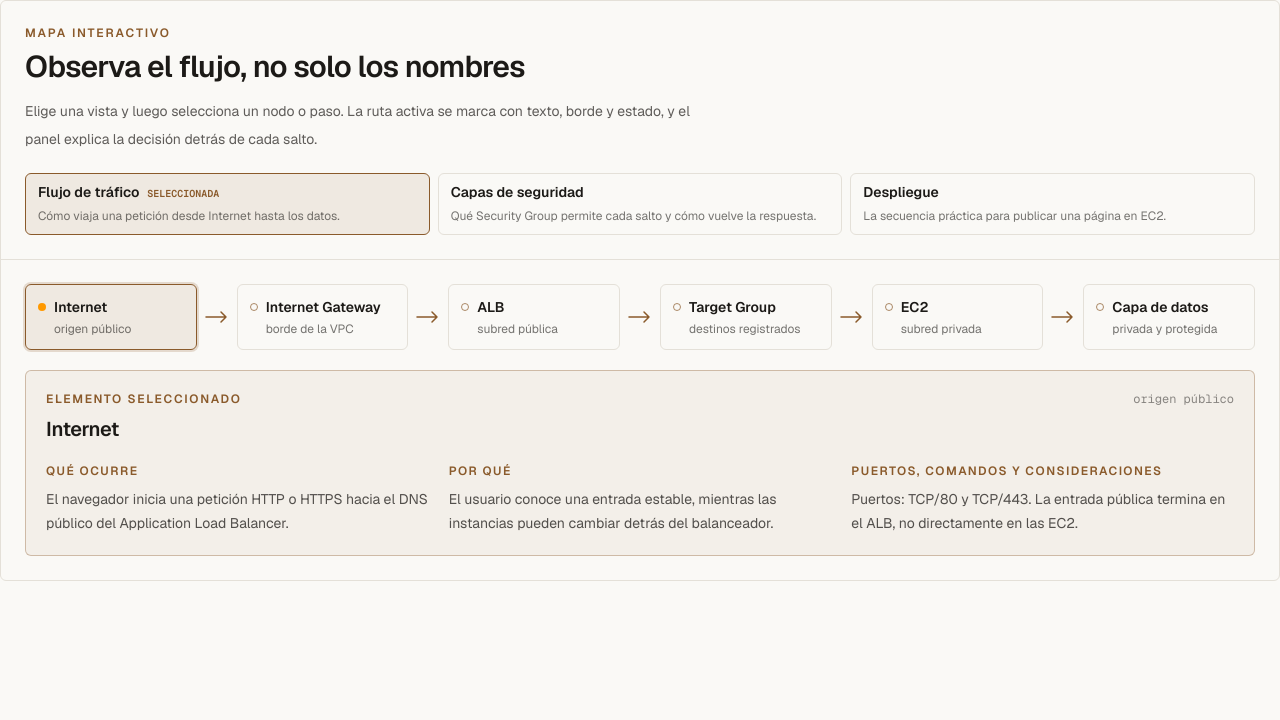
Test case: AWSArchitectureDiagrams › switches between the three diagram modes
Expected: the button with aria-label "Internet, origen público, seleccionado" is shown, [25, 284, 197, 350]
Click the tab "Capas de seguridad": (517, 192) [438, 173, 842, 235]
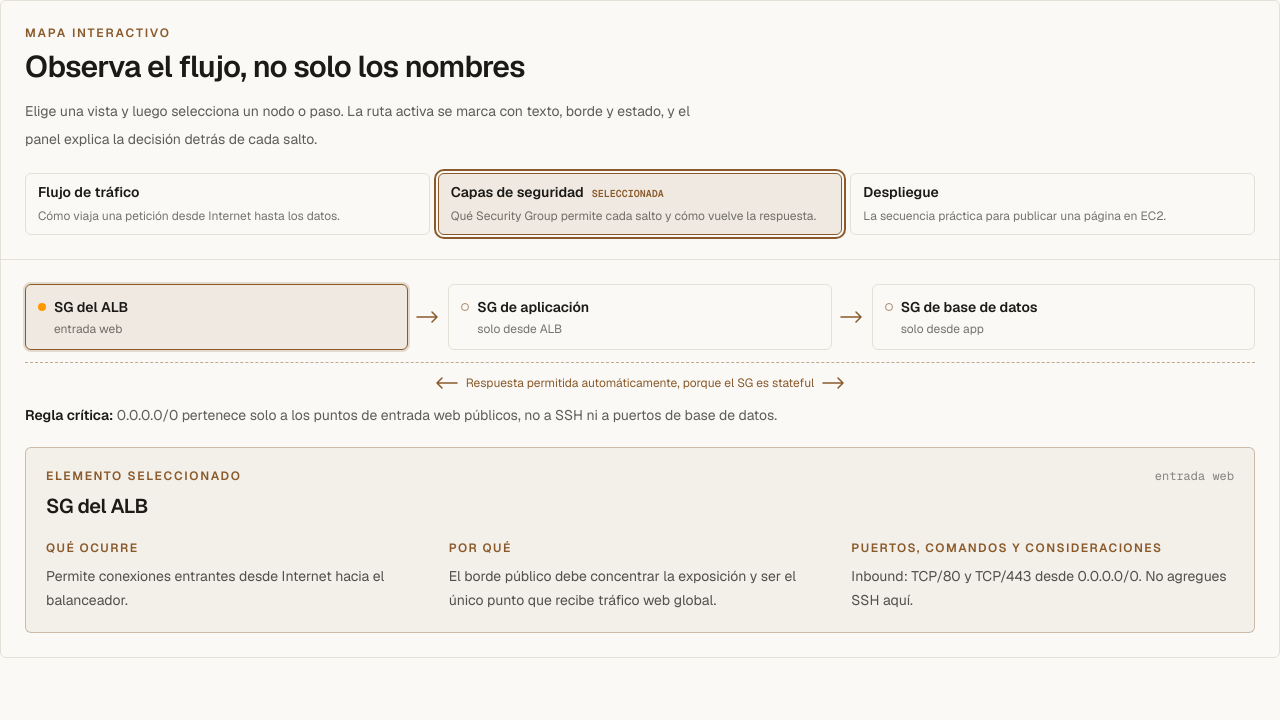
Now the button with aria-label "SG del ALB, entrada web, seleccionado" is shown, box [25, 284, 408, 350]
Now the text "0.0.0.0/0 pertenece solo" is shown, box [113, 406, 777, 424]
Click the tab "Despliegue": (901, 192) [850, 173, 1255, 235]
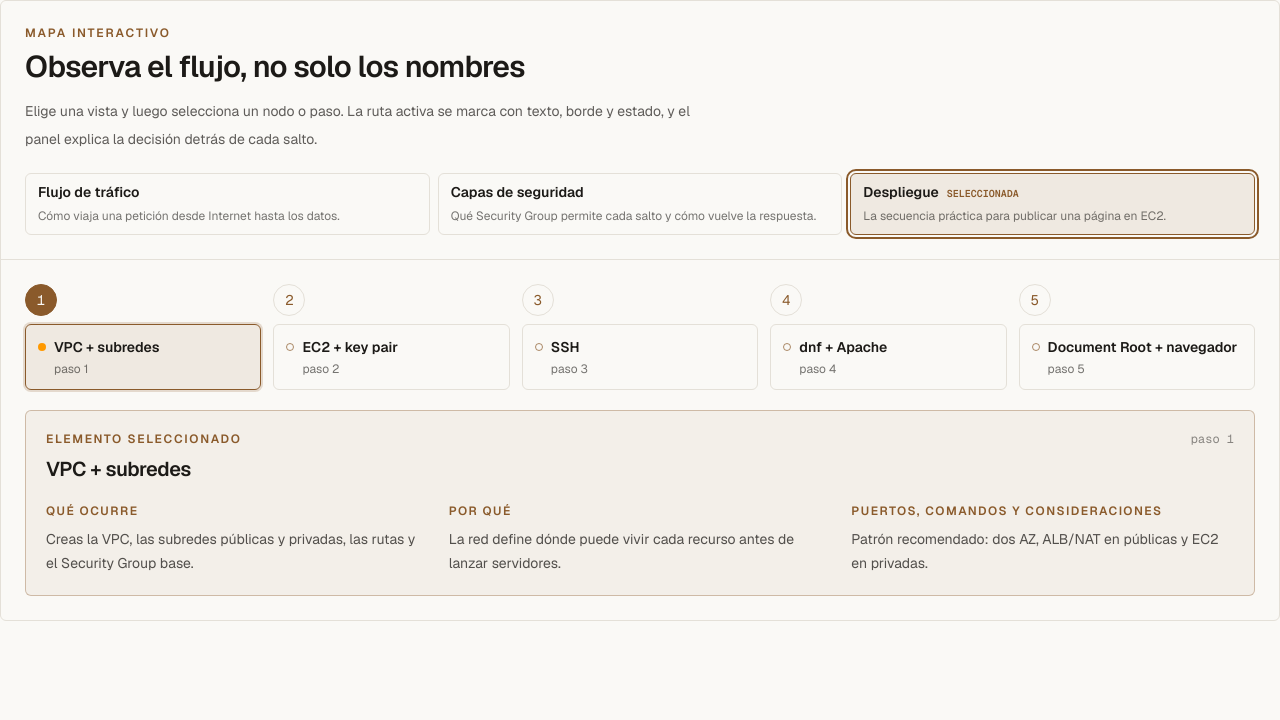
Now the text "dnf + Apache" is shown, box [799, 337, 887, 357]
